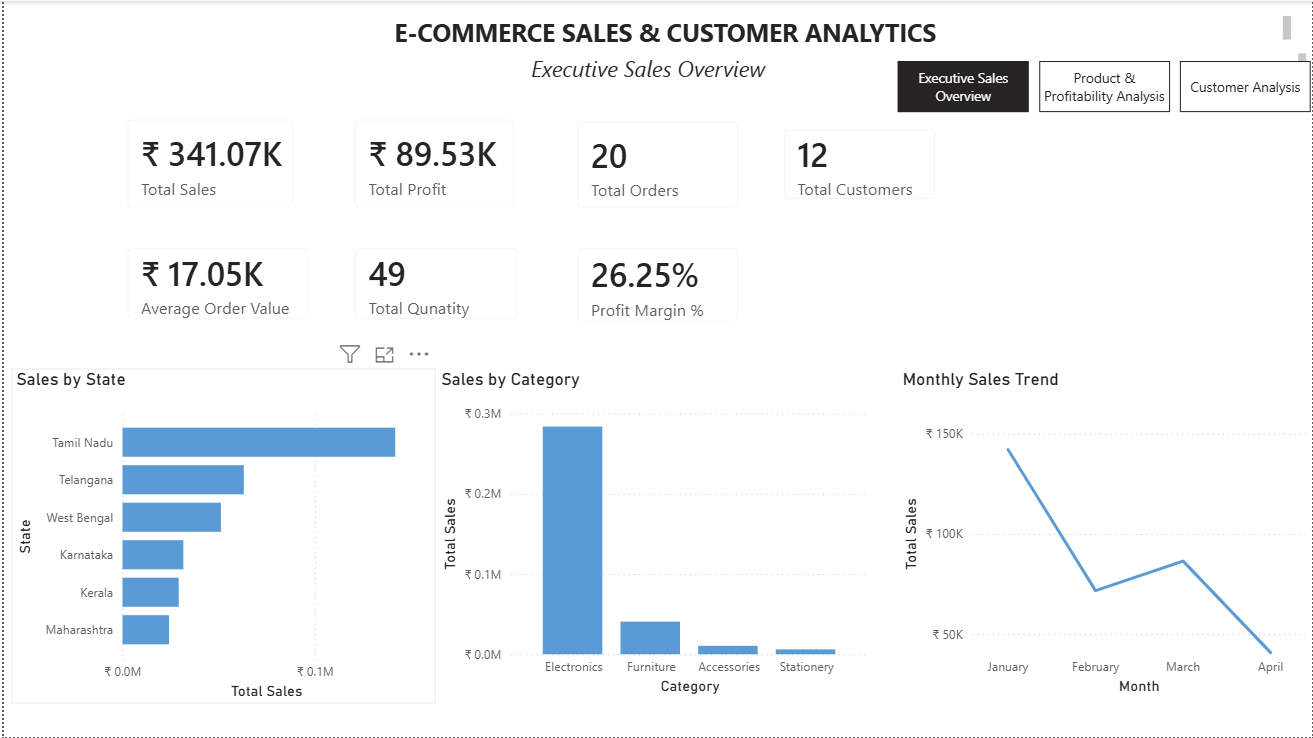

Layout of this report page (visuals, bound fields, positions):
{"tool":"powerbi","page":{"name":"Executive Sales Overview","canvas":[1280,720],"ordinal":0},"visuals":[{"type":"cardVisual","fields":{"Data":["Order_Details.Total Sales"]},"box":[103.8,98.9,196.2,120.8],"z":0},{"type":"cardVisual","fields":{"Data":["Orders.Total Orders"]},"box":[544.1,101.3,191.8,118.2],"z":1000},{"type":"cardVisual","fields":{"Data":["Customers.Total Customer"]},"box":[745.6,108.6,182.2,102.5],"z":2000},{"type":"cardVisual","fields":{"Data":["Order_Details.Total Qunatity"]},"box":[326.9,225.6,193,103.8],"z":3000},{"type":"cardVisual","fields":{"Data":["Orders.Average Order Value"]},"box":[103.8,225.6,211.1,103.8],"z":4000},{"type":"cardVisual","fields":{"Data":["Order_Details.Total Profit"]},"box":[326.9,98.9,189.4,120.8],"z":5000},{"type":"cardVisual","fields":{"Data":["Order_Details.Profit Margin %"]},"box":[544.1,225.6,191.8,106.2],"z":6000},{"type":"lineChart","title":"Monthly Sales Trend","fields":{"Category":["Date.Month"],"Y":["Order_Details.Total Sales"]},"box":[874.3,359.5,404.2,323.3],"z":7000},{"type":"lineClusteredColumnComboChart","title":"Sales by Category","fields":{"Category":["Products.Category"],"Y":["Order_Details.Total Sales"]},"box":[423.1,359.5,428.3,323.3],"z":8000},{"type":"clusteredBarChart","title":"Sales by State","fields":{"Category":["Customers.State"],"Y":["Order_Details.Total Sales"]},"box":[7.2,359.5,415,328.2],"z":9000},{"type":"textbox","box":[31.6,9.6,1232.3,37],"z":10000},{"type":"textbox","box":[1.2,46.5,1277.9,34.2],"z":11002},{"type":"pageNavigator","box":[874.3,58.7,406,50.1],"z":11003}]}

Visuals, with their boxes in screenshot pixels (x1, y1, x2, y2), scaled from the page's 1280x720 canvas onto the 1313x738 screenshot:
cardVisual - Order_Details.Total Sales: bbox=[106, 101, 308, 225]
cardVisual - Orders.Total Orders: bbox=[558, 104, 755, 225]
cardVisual - Customers.Total Customer: bbox=[765, 111, 952, 216]
cardVisual - Order_Details.Total Qunatity: bbox=[335, 231, 533, 338]
cardVisual - Orders.Average Order Value: bbox=[106, 231, 323, 338]
cardVisual - Order_Details.Total Profit: bbox=[335, 101, 530, 225]
cardVisual - Order_Details.Profit Margin %: bbox=[558, 231, 755, 340]
"Monthly Sales Trend" lineChart: bbox=[897, 368, 1311, 700]
"Sales by Category" lineClusteredColumnComboChart: bbox=[434, 368, 873, 700]
"Sales by State" clusteredBarChart: bbox=[7, 368, 433, 705]
textbox: bbox=[32, 10, 1296, 48]
textbox: bbox=[1, 48, 1312, 83]
pageNavigator: bbox=[897, 60, 1312, 112]
